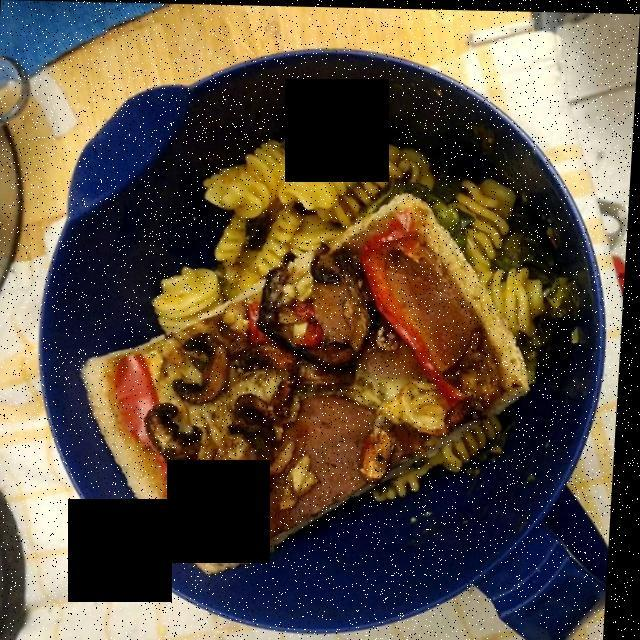pasta: (152, 114, 549, 342)
vegetables-stuffed-pie: (85, 179, 538, 579)
